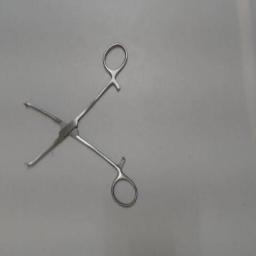Allis Tissue Forceps: (18, 37, 146, 213)
